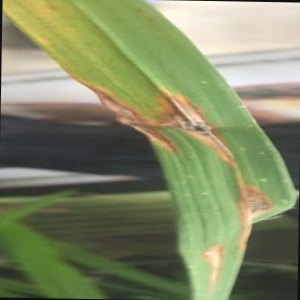Brown_Spot: (72, 79, 175, 162), (152, 80, 237, 178), (230, 178, 288, 248), (184, 230, 234, 293)
